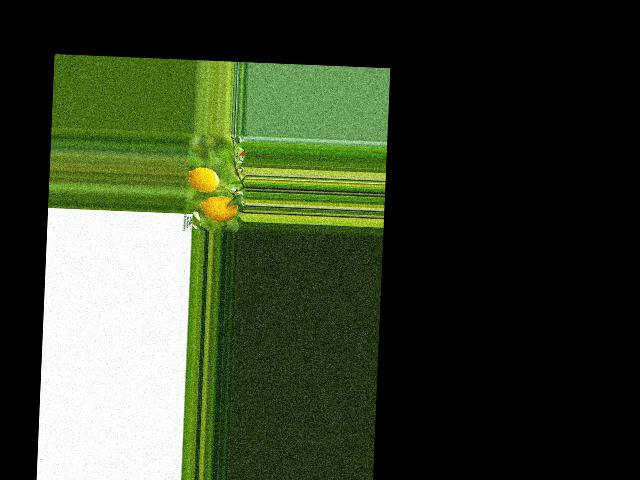lemon: (199, 192, 240, 223)
